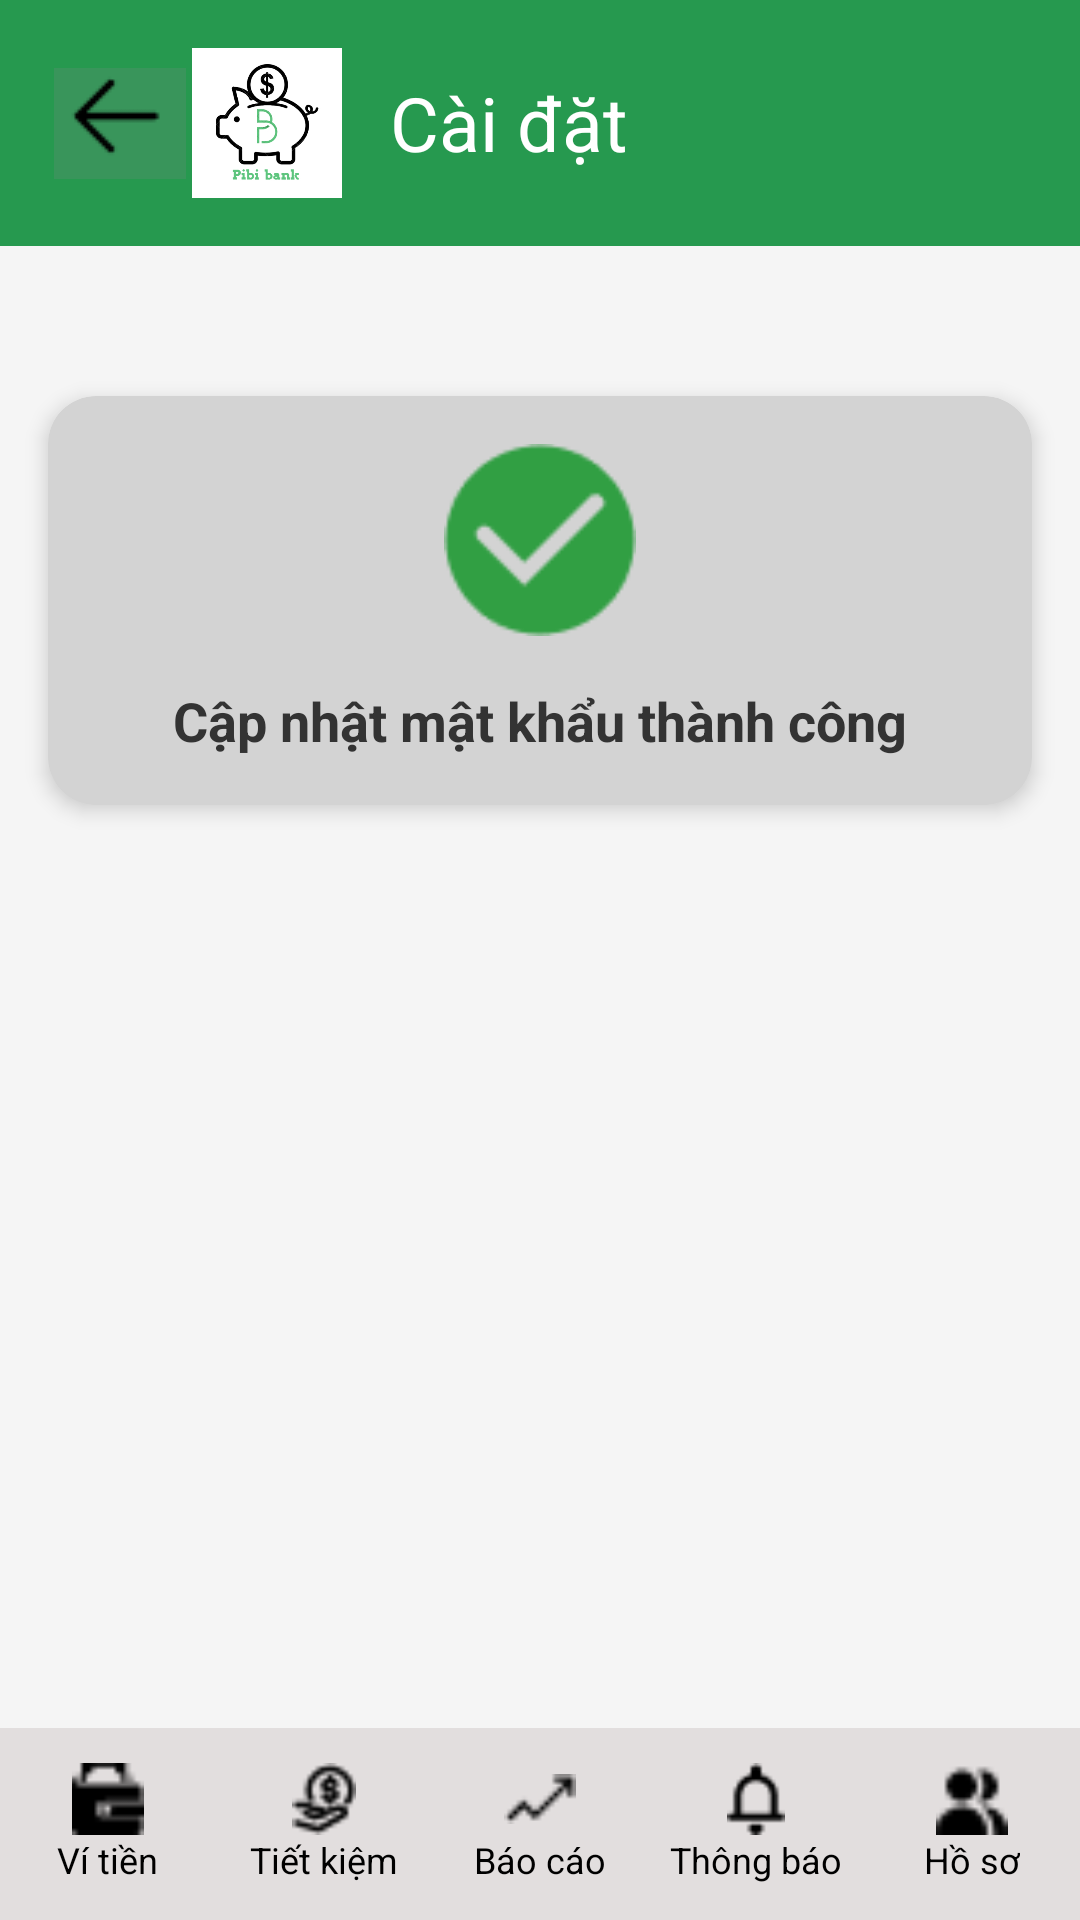

Named icons in this screenshot (1080*1920) and their bounding boxes, Rect(x1, y1, x2, y2):
Back: Rect(54, 68, 186, 179)
dautich: Rect(444, 444, 636, 636)
